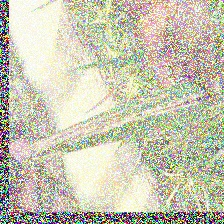Leaf_Blast: (55, 92, 207, 137)
